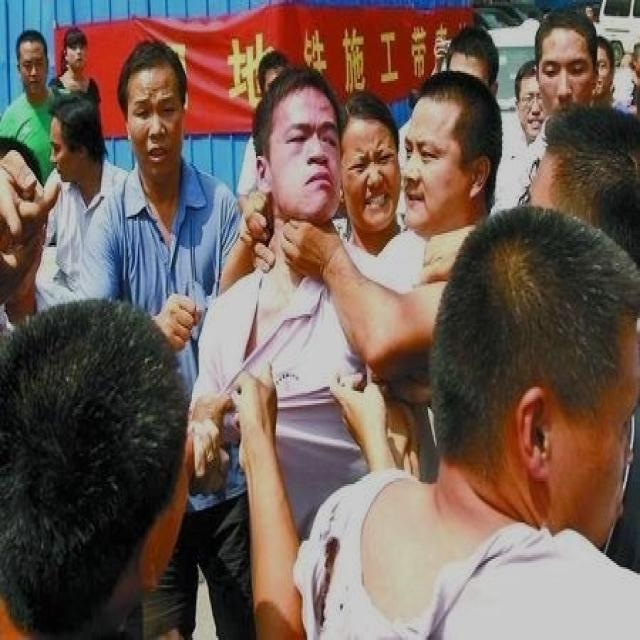fight: (182, 37, 504, 599)
non-fight: (76, 32, 247, 638)
